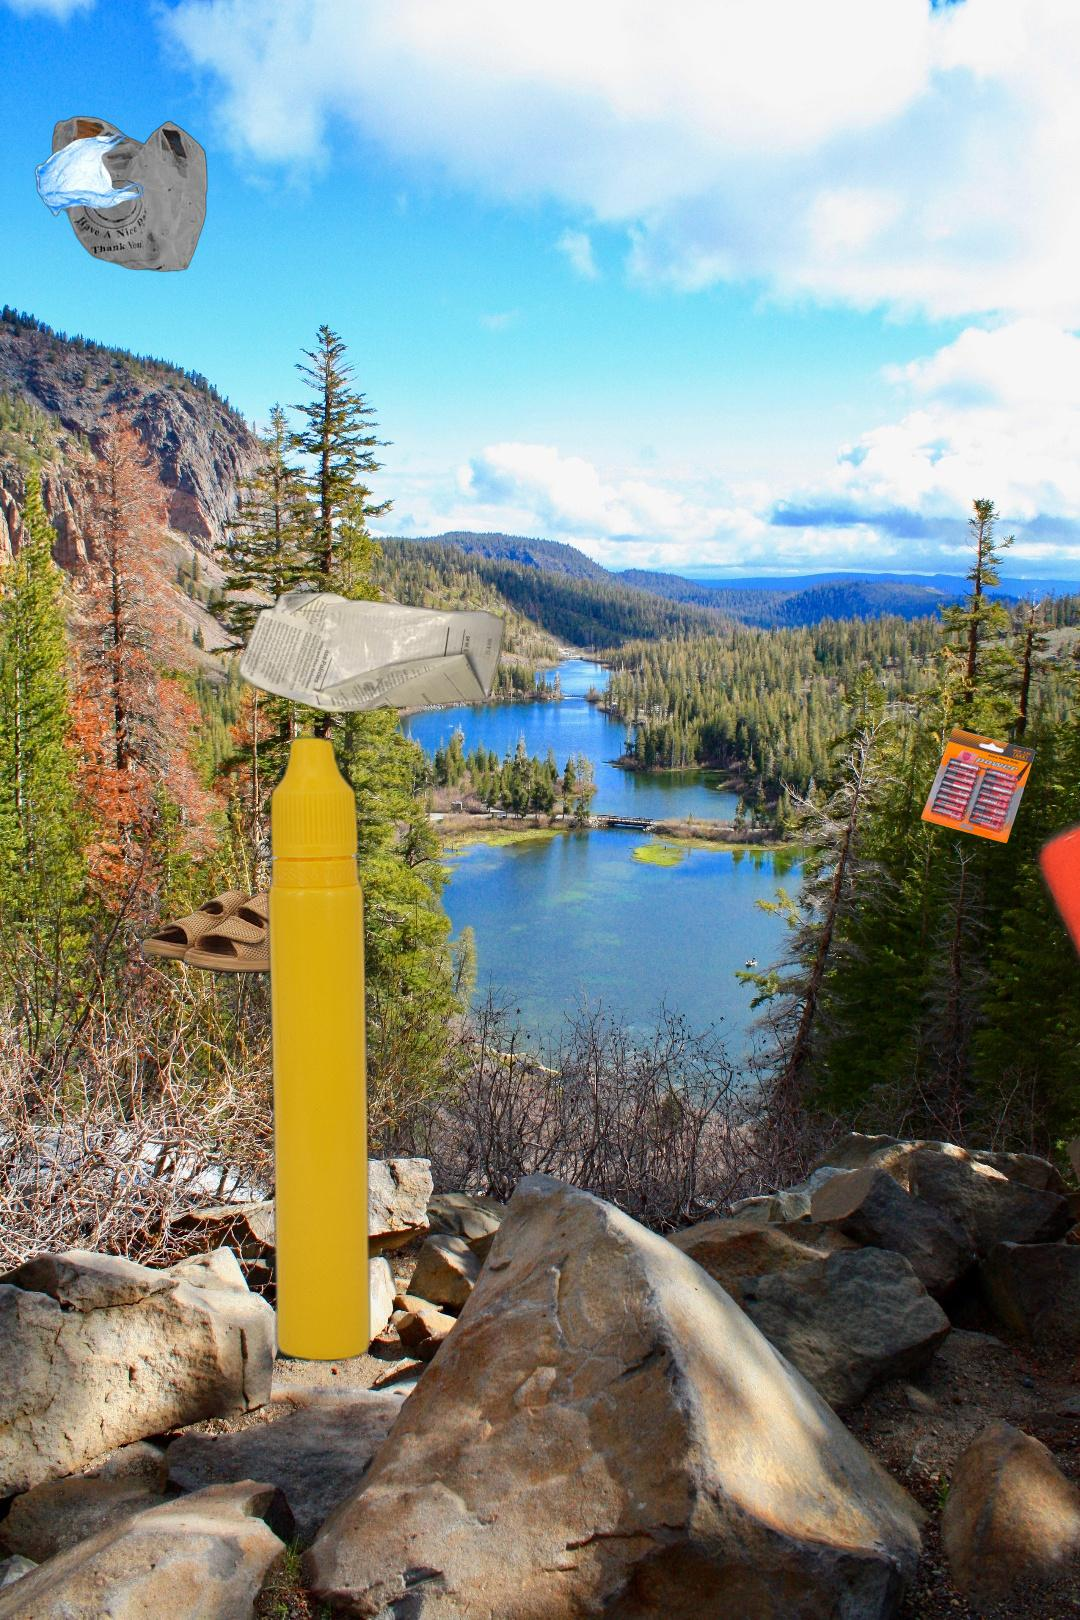battery: (918, 724, 1038, 846)
paper: (231, 588, 511, 716)
penholder: (260, 730, 378, 1369), (1019, 622, 1080, 1620)
plastic-bag: (33, 113, 210, 274)
shoes: (139, 884, 362, 976)
